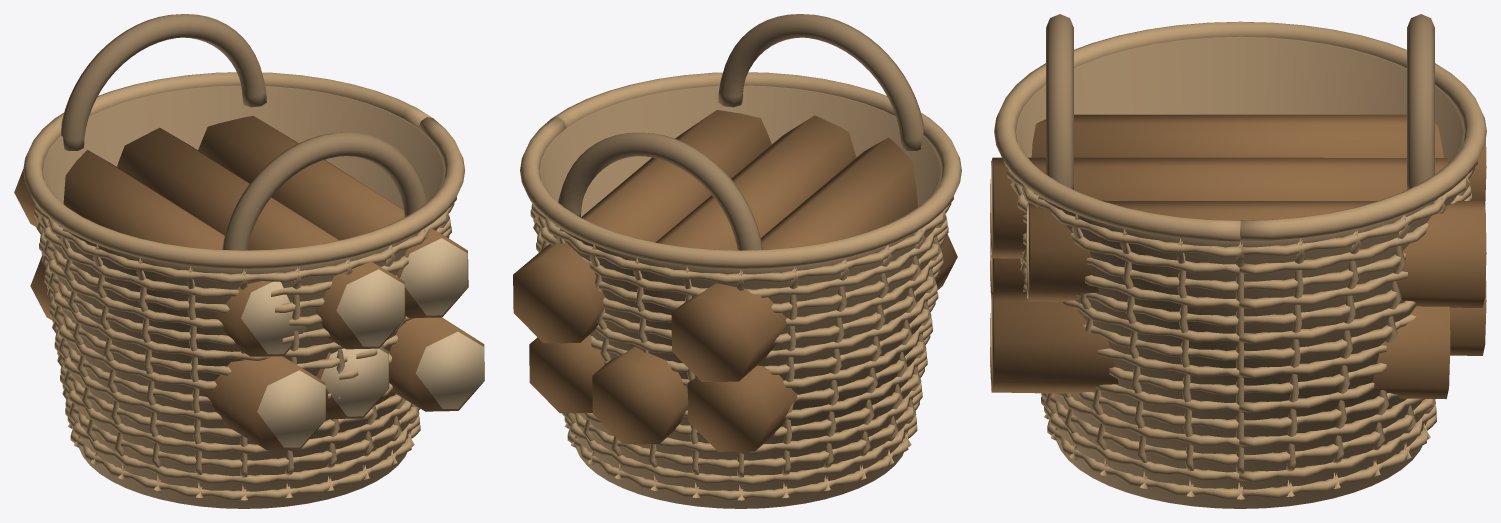
Rendered from log_basket.glb.
The picture shows the model from 3 angles, left to right: view 1: azimuth 30°, elevation 25°; view 2: azimuth 150°, elevation 25°; view 3: azimuth 270°, elevation 25°; orthographic projection. The views are drawn at different scales.
Parts seen in each view (by area): view 1: log_basket__body, log_basket__accent, log_basket__logs, log_basket__endgrain; view 2: log_basket__logs, log_basket__body, log_basket__accent; view 3: log_basket__body, log_basket__accent, log_basket__logs, log_basket__endgrain.
Boxes of the visible parts, bbox=[...] form: log_basket__body: bbox=[23, 72, 464, 500]; log_basket__accent: bbox=[43, 14, 445, 508]; log_basket__logs: bbox=[14, 116, 484, 450]; log_basket__endgrain: bbox=[241, 238, 483, 447]; log_basket__logs: bbox=[513, 110, 957, 451]; log_basket__body: bbox=[520, 72, 961, 500]; log_basket__accent: bbox=[539, 14, 942, 508]; log_basket__body: bbox=[994, 21, 1486, 499]; log_basket__accent: bbox=[1016, 14, 1464, 508]; log_basket__logs: bbox=[990, 114, 1486, 399]; log_basket__endgrain: bbox=[991, 160, 1028, 389].
Size of the model in its own units: 0.314 by 0.284 by 0.3166.
